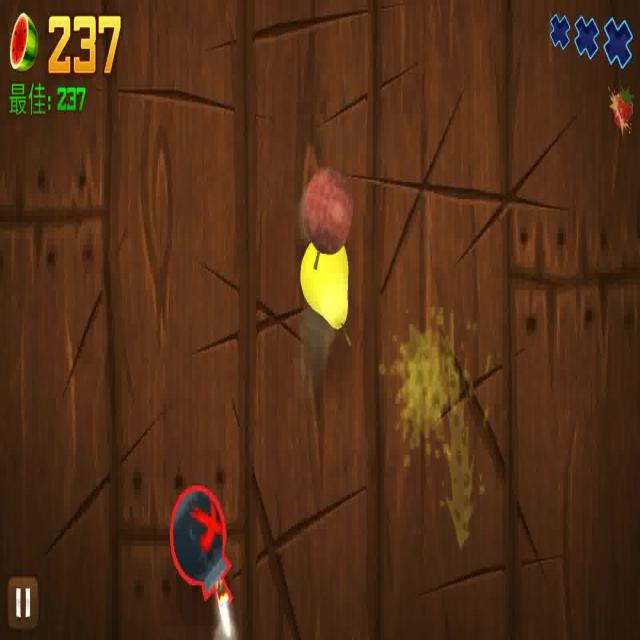bomb: (167, 470, 248, 640)
fruit: (294, 242, 368, 374), (300, 157, 360, 260)
